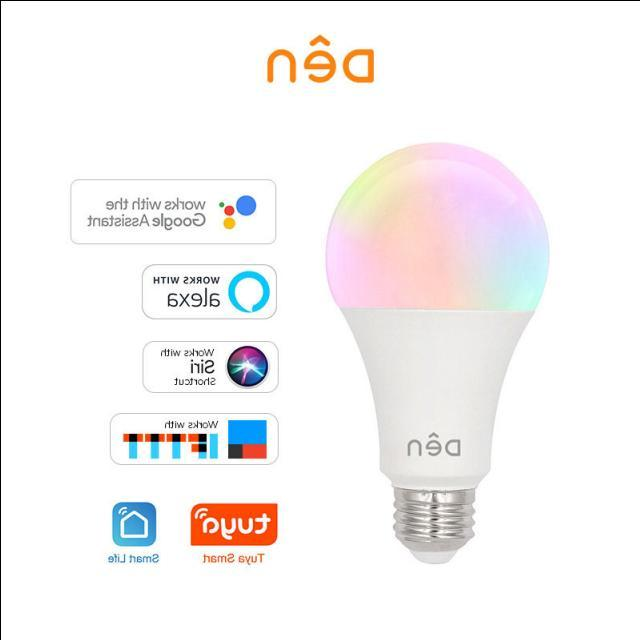light_bulb: (308, 125, 568, 570)
